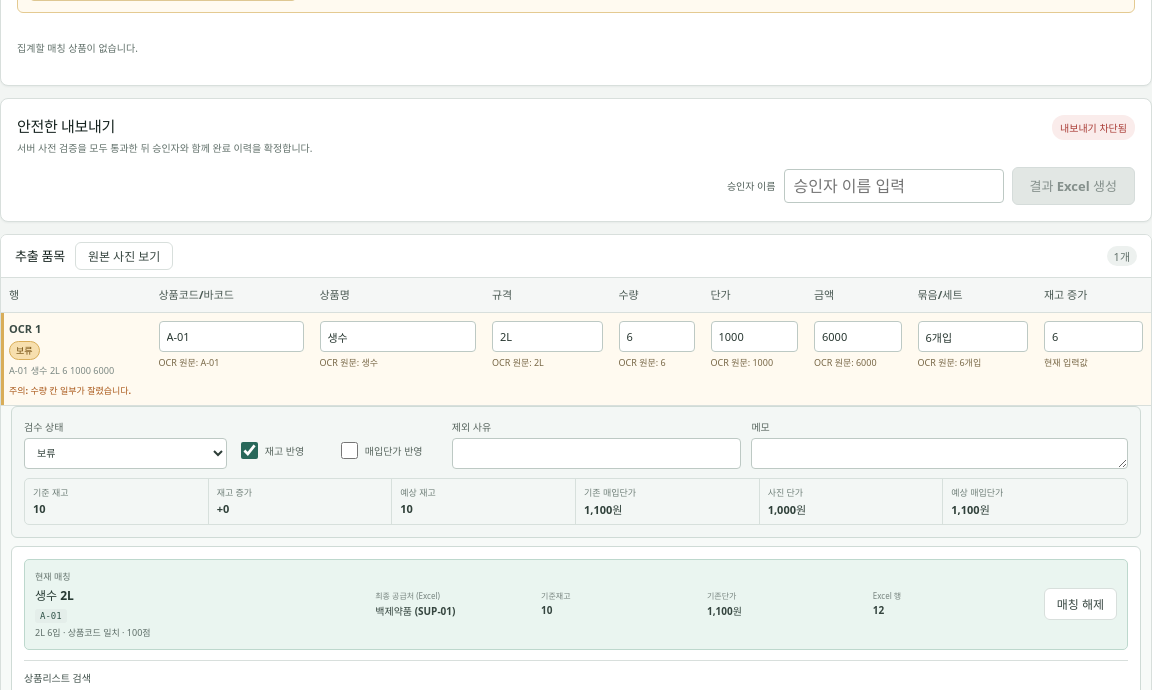
Test: 사진과 품목 검수 › 같은 행의 자동저장을 직렬화해 지연 응답이 최신 입력을 덮어쓰지 않는다
(page scrolled)
Replace the text in the field named "1번 행 상품명" with "제주 생수": (398,337) [320,321,476,352]
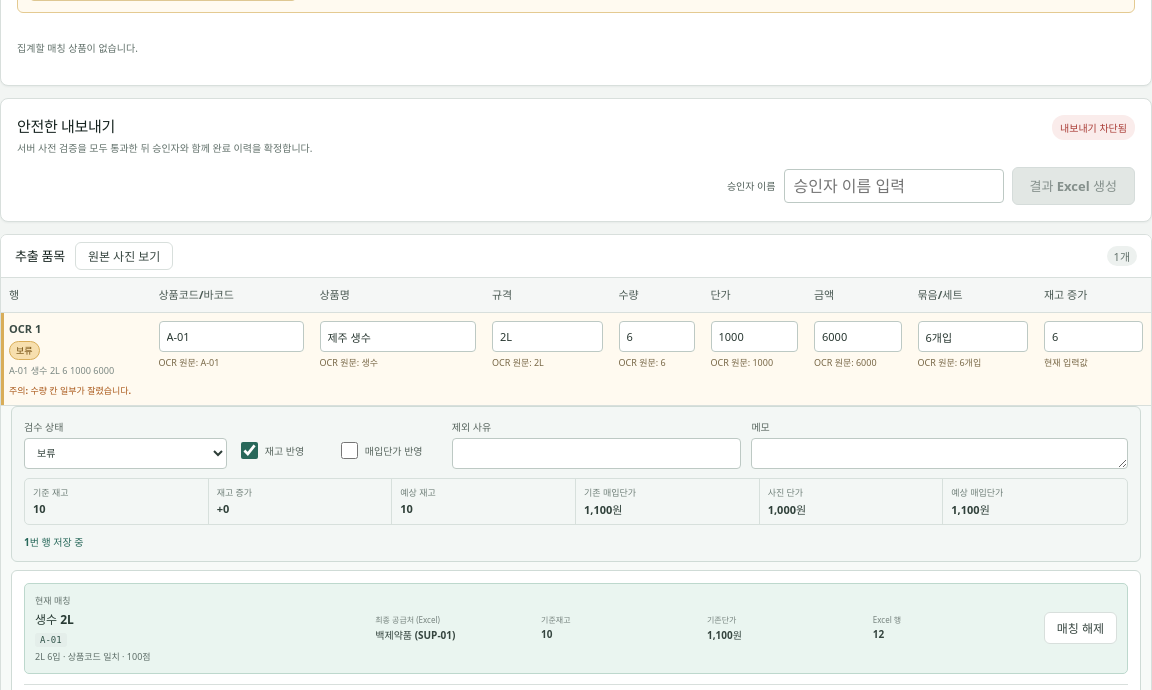
In the text box named "1번 행 메모": (940,453) [751,438,1128,469], type "동시 메모"
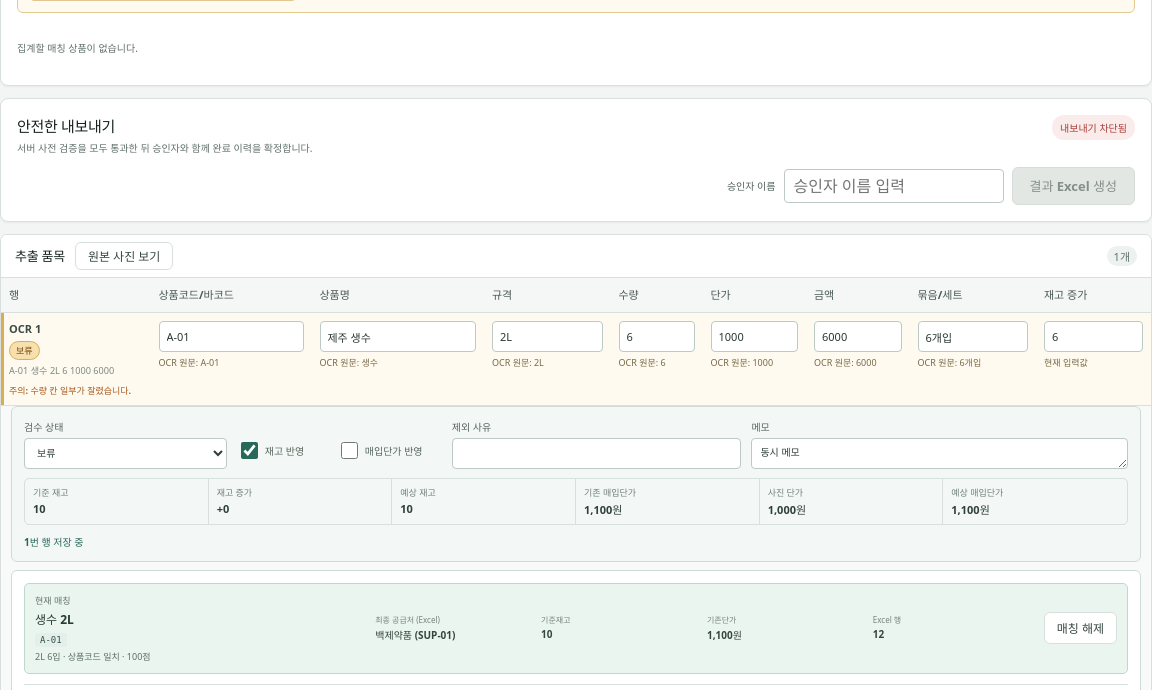
Leave the text box named "1번 행 메모", box [751,438,1128,469]
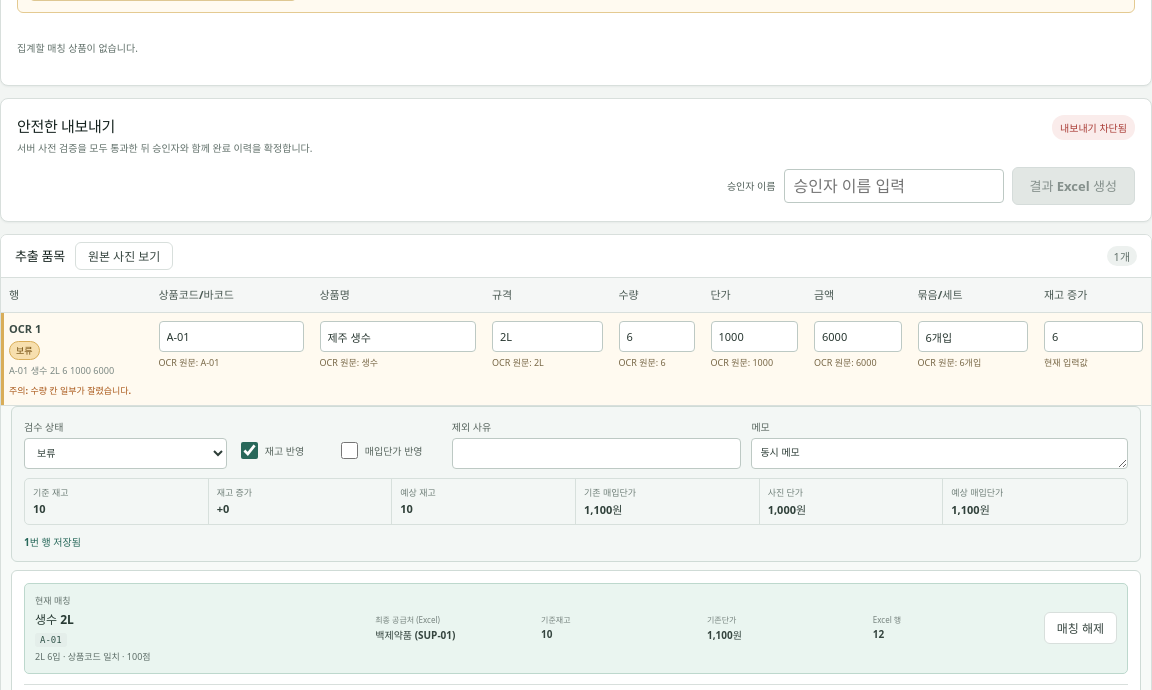
Expected: the text "1번 행 저장됨" is shown, [24,535,81,549]
